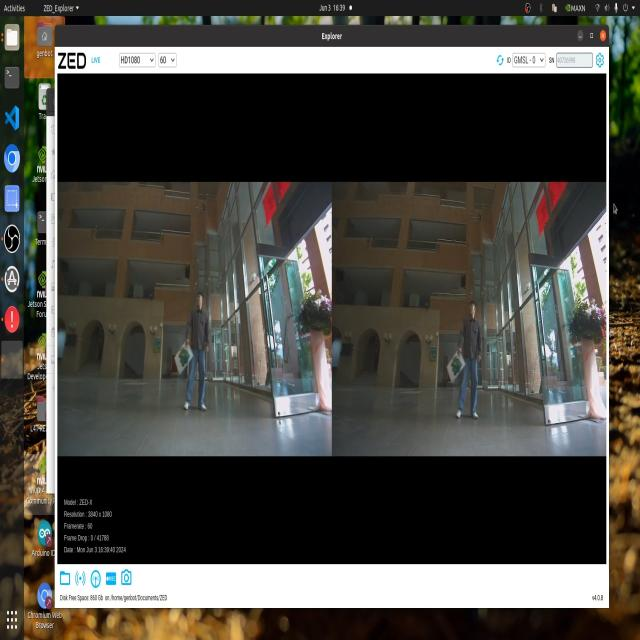green: (174, 344, 195, 376), (448, 354, 464, 386)
